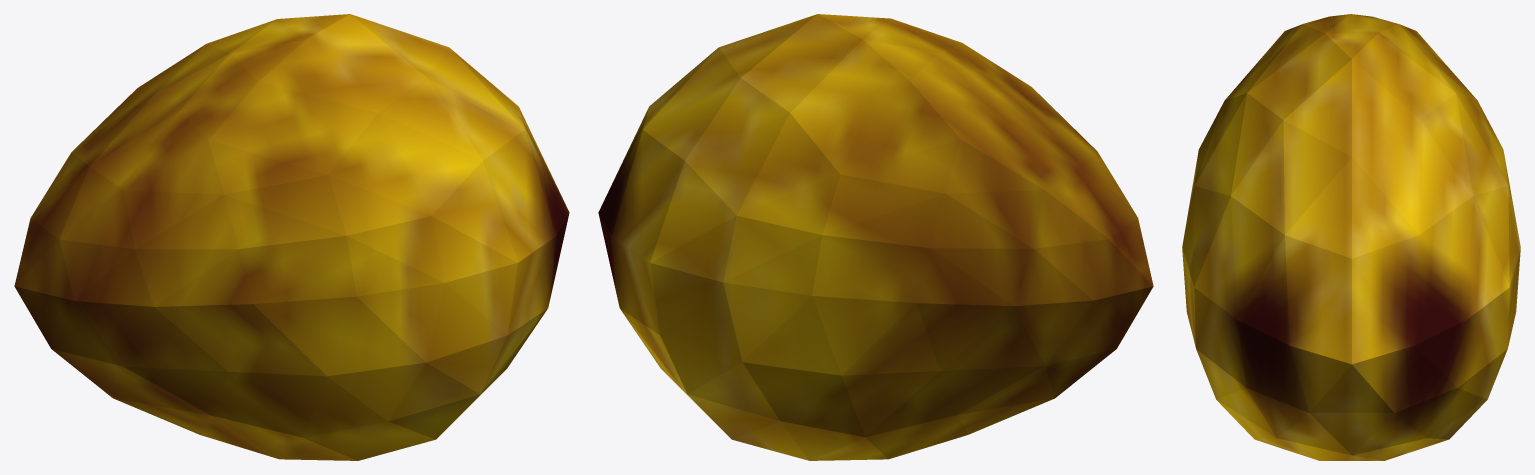
Rendered from spider2.obj.
3 renders of one model, left to right at view 1: azimuth 30°, elevation 25°; view 2: azimuth 150°, elevation 25°; view 3: azimuth 270°, elevation 25°, orthographic. The views are drawn at different scales.
Visible parts, largest first — view 1: ColobotMesh_1_ColobotMesh_; view 2: ColobotMesh_1_ColobotMesh_; view 3: ColobotMesh_1_ColobotMesh_.
Boxes of the visible parts, <box> form: ColobotMesh_1_ColobotMesh_: <box>14,14,569,460</box>; ColobotMesh_1_ColobotMesh_: <box>598,14,1153,460</box>; ColobotMesh_1_ColobotMesh_: <box>1182,14,1520,460</box>.
Size of the model in its own units: 1.98 by 1.48 by 1.15.
